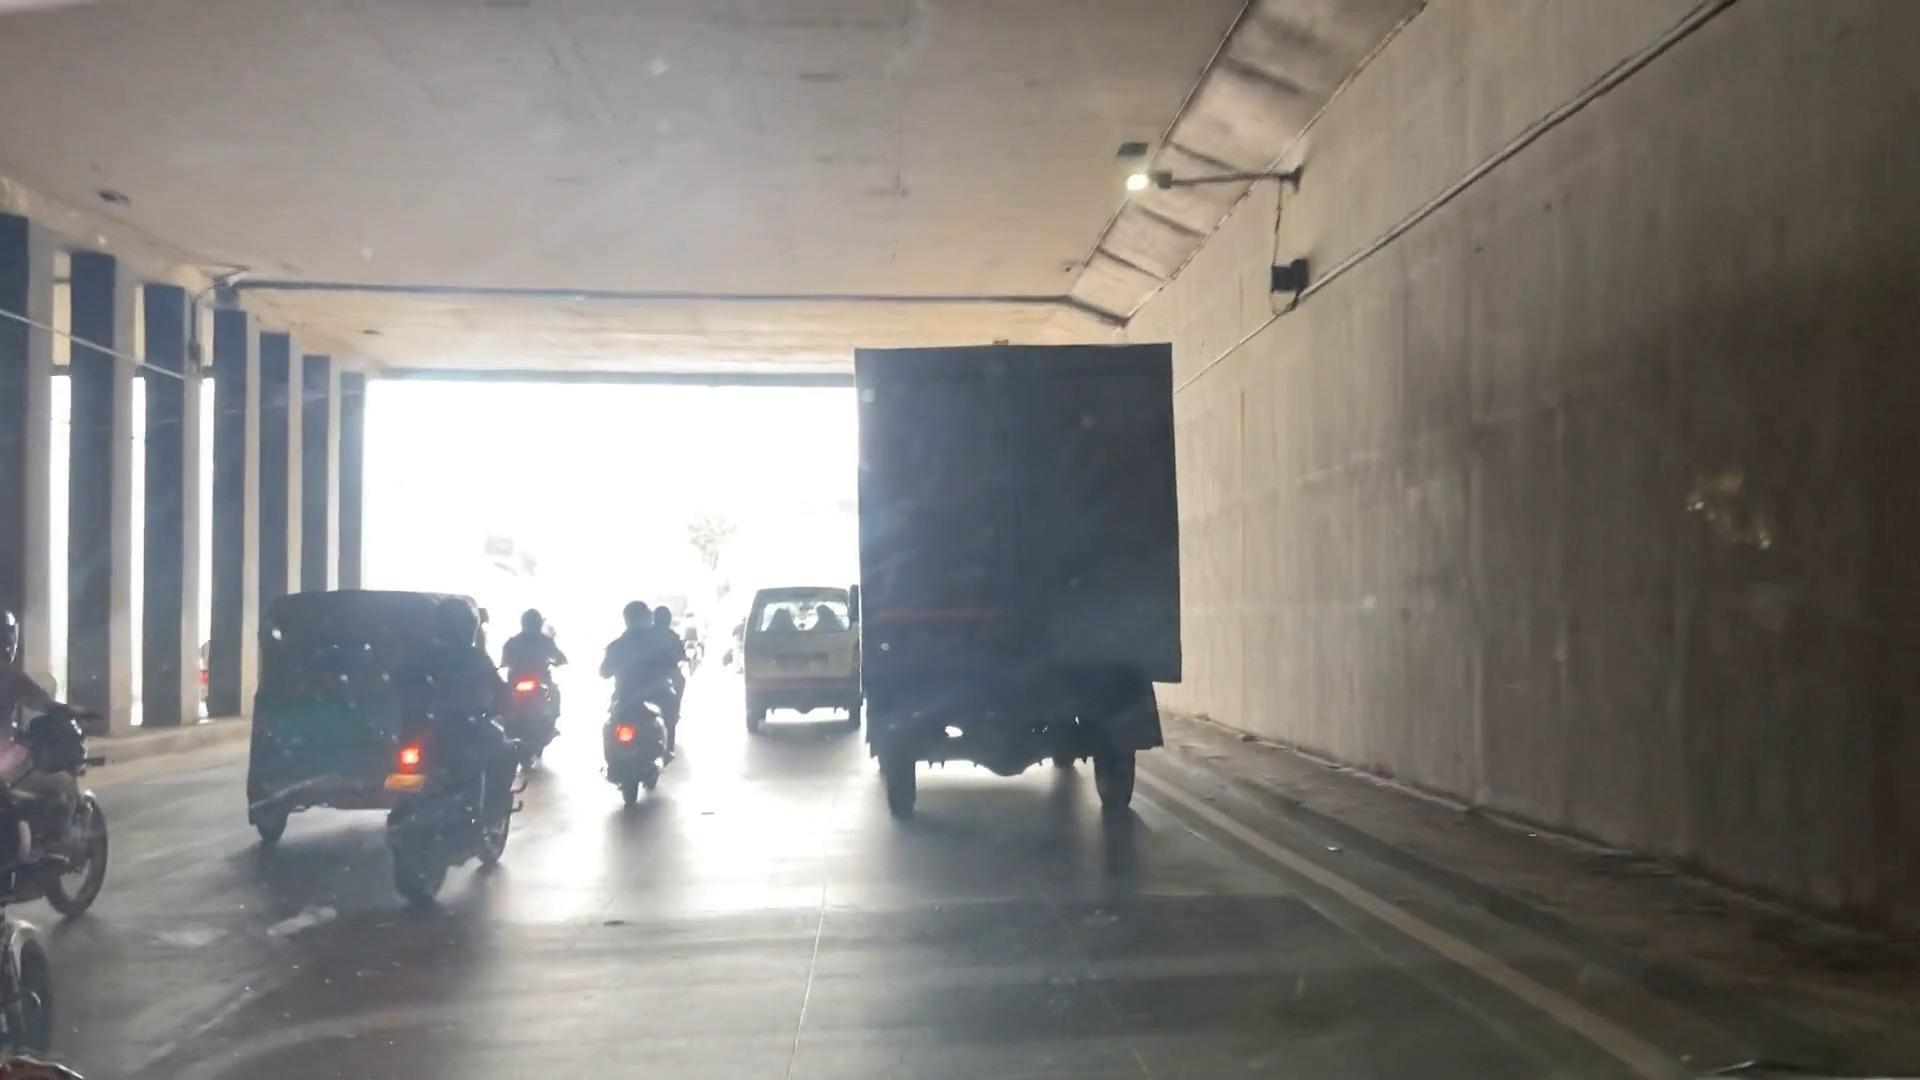HMV: (864, 349, 1170, 808)
LMV: (400, 630, 491, 890), (753, 576, 851, 737), (613, 589, 666, 814)
